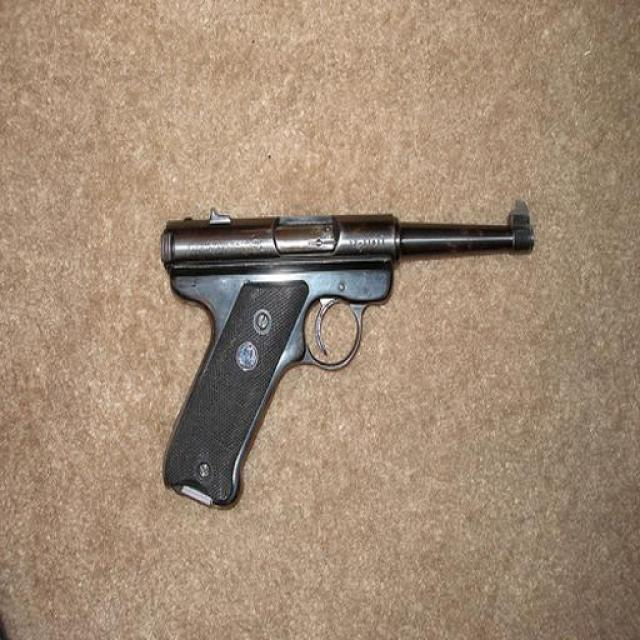pistol: (154, 201, 535, 502)
